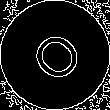O_SE: (22, 22, 88, 88)
